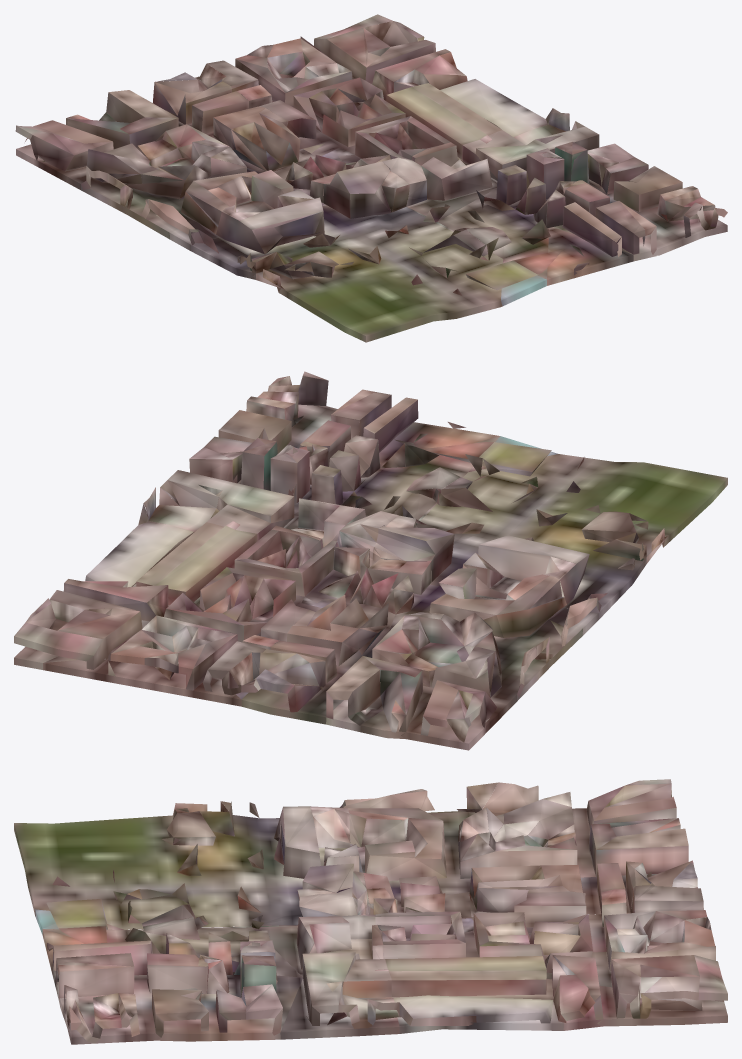
The picture shows the model from 3 angles, top to bottom: view 1: azimuth 30°, elevation 25°; view 2: azimuth 150°, elevation 25°; view 3: azimuth 270°, elevation 25°; orthographic projection. The views are drawn at different scales.
Parts seen in each view (by area): view 1: Mesh_0; view 2: Mesh_0; view 3: Mesh_0.
Boxes of the visible parts, x1,y1,x2,y2 form: Mesh_0: [15, 14, 727, 342]; Mesh_0: [14, 371, 727, 750]; Mesh_0: [14, 779, 727, 1044].
Bounding box in the file's own units: 535 × 81.97 × 659.
Materials: 2 (2 with a texture image).
